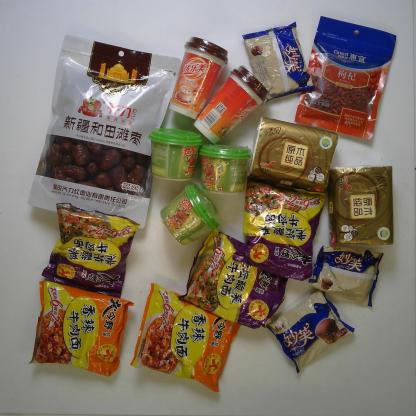Dessert: (261, 288, 358, 376), (242, 21, 316, 104), (308, 244, 385, 307)
Dried Food: (26, 32, 182, 233)
Dried Fruit: (295, 16, 397, 140)
Instant Drink: (193, 63, 269, 146), (168, 34, 229, 121), (159, 183, 222, 246), (199, 142, 254, 196), (147, 128, 202, 182)
Instant Noodles: (129, 281, 244, 393), (177, 231, 293, 330), (29, 281, 136, 379), (232, 177, 331, 281), (41, 201, 141, 299)
Tissue: (249, 116, 340, 194), (327, 164, 396, 251)
